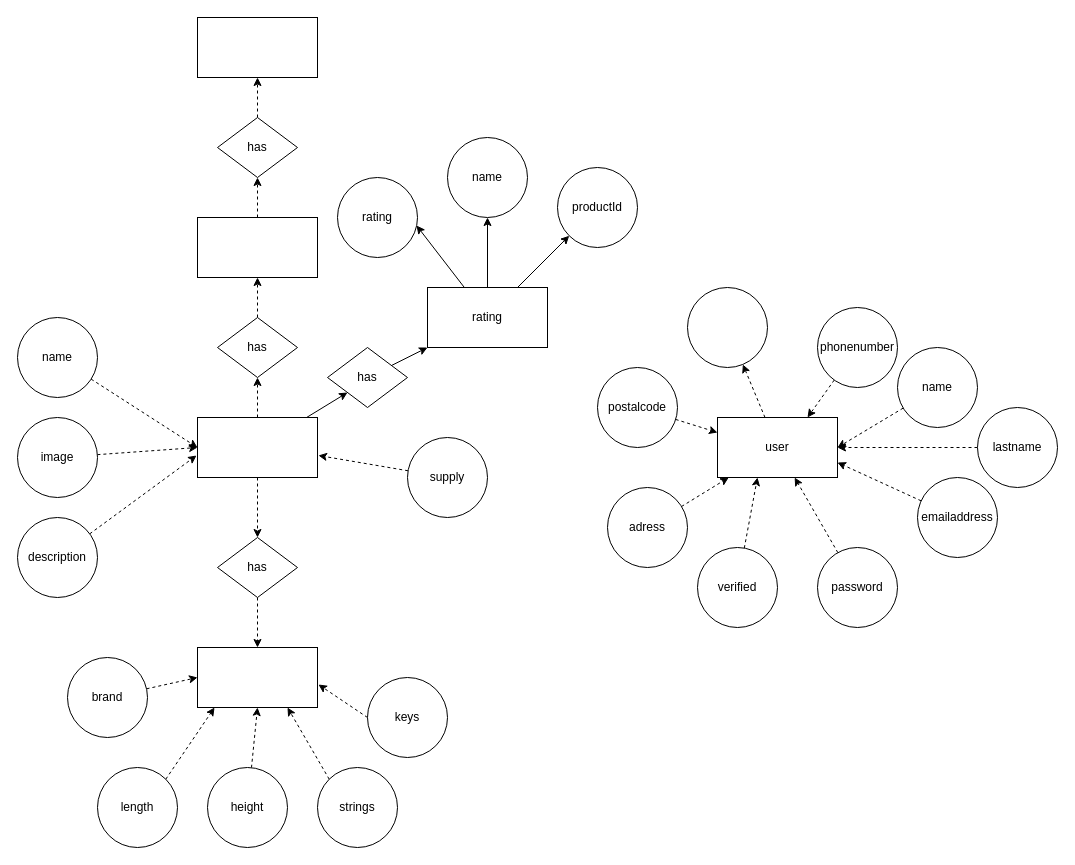
Image size: 1075x865. Some labels were removed from this diagram. The centre of each missing label's shape, as x and y in pixels:
features: point 257,677
main category: point 257,247
Product: point 257,447
role: point 727,327
subcategory: point 257,47
